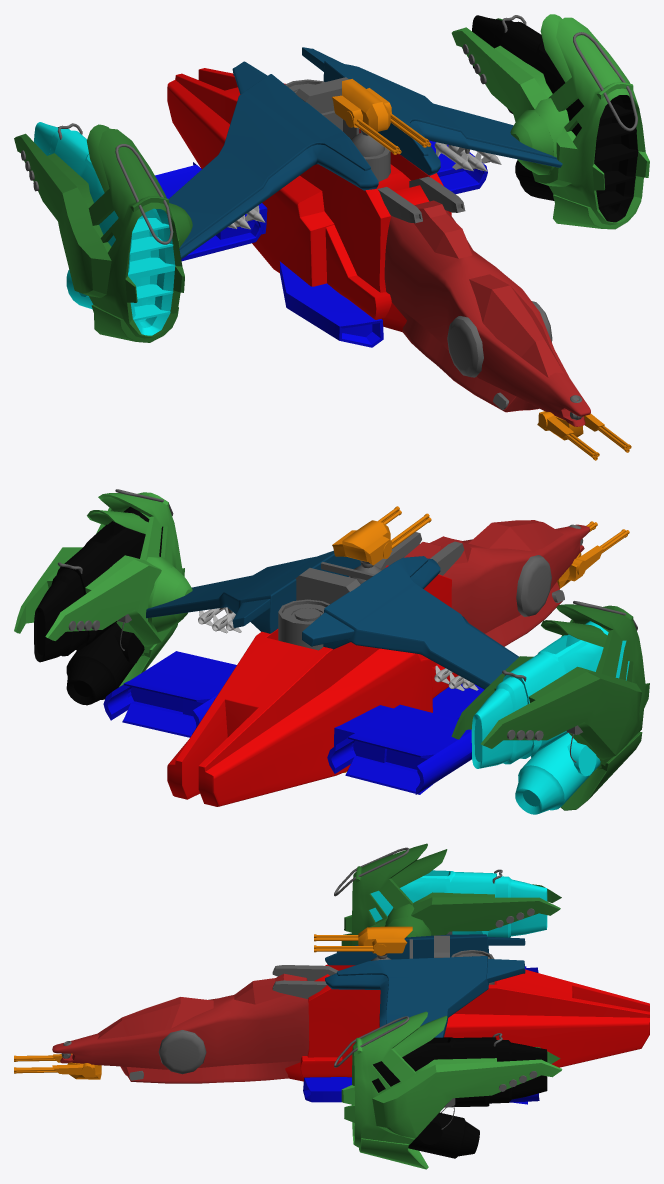
The model's file is Space Ship - NordBan.fbx.
3 renders of one model, top to bottom at view 1: azimuth 30°, elevation 25°; view 2: azimuth 150°, elevation 25°; view 3: azimuth 270°, elevation 25°, orthographic. The views are drawn at different scales.
Visible parts, largest first — view 1: polySurface1050, polySurface1056, polySurface1051, polySurface971, polySurface996, polySurface972, polySurface964, polySurface1023, polySurface995, polySurface1057, polySurface1014, polySurface333; view 2: polySurface1051, polySurface1050, polySurface1023, polySurface996, polySurface971, polySurface995, polySurface1056, polySurface964, polySurface972, polySurface1057, polySurface333; view 3: polySurface1051, polySurface1056, polySurface971, polySurface1050, polySurface996, polySurface964, polySurface972, polySurface995, polySurface1057, polySurface1023, polySurface1009.
Boxes of the visible parts, box(x1,y1,x2,y2) form: polySurface1050: box(168, 47, 562, 259); polySurface1056: box(384, 200, 590, 426); polySurface1051: box(167, 68, 451, 332); polySurface971: box(451, 14, 649, 229); polySurface996: box(14, 124, 192, 342); polySurface972: box(21, 15, 637, 420); polySurface964: box(472, 15, 638, 222); polySurface1023: box(155, 140, 487, 347); polySurface995: box(34, 122, 175, 335); polySurface1057: box(332, 79, 631, 460); polySurface1014: box(325, 225, 391, 319); polySurface333: box(228, 142, 501, 229); polySurface1051: box(167, 565, 451, 806); polySurface1050: box(146, 550, 518, 689); polySurface1023: box(103, 651, 484, 794); polySurface996: box(451, 604, 649, 810); polySurface971: box(14, 492, 192, 686); polySurface995: box(471, 621, 629, 814); polySurface1056: box(404, 520, 589, 646); polySurface964: box(34, 506, 163, 705); polySurface972: box(57, 489, 637, 762); polySurface1057: box(332, 506, 629, 772); polySurface333: box(198, 607, 478, 690); polySurface1051: box(285, 964, 649, 1081); polySurface1056: box(52, 973, 308, 1083); polySurface971: box(341, 1011, 562, 1169); polySurface1050: box(325, 934, 525, 1037); polySurface996: box(341, 843, 561, 945); polySurface964: box(372, 1037, 547, 1158); polySurface972: box(61, 847, 537, 1129); polySurface995: box(369, 870, 547, 937); polySurface1057: box(14, 926, 412, 1079); polySurface1023: box(303, 966, 539, 1104); polySurface1009: box(300, 1050, 352, 1077).
Bounding box in the file's own units: 30.48 × 11.22 × 39.77.
